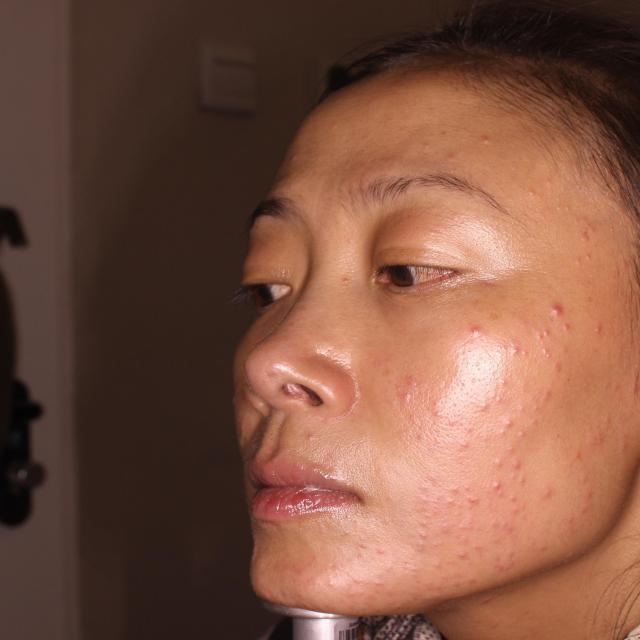papule: (588, 424, 618, 454), (483, 551, 522, 573), (490, 406, 522, 432), (489, 514, 525, 534), (588, 319, 618, 341), (503, 442, 528, 467), (508, 334, 531, 360), (462, 490, 489, 512), (452, 539, 472, 566), (577, 488, 598, 513), (533, 316, 555, 339), (577, 228, 598, 251), (550, 356, 574, 376), (438, 481, 458, 504), (457, 516, 481, 535), (508, 489, 525, 515), (540, 296, 566, 312), (538, 482, 558, 502), (394, 388, 415, 407), (616, 435, 636, 454), (484, 475, 506, 492), (400, 367, 420, 384), (571, 446, 586, 468), (465, 320, 481, 339), (558, 316, 577, 332)
